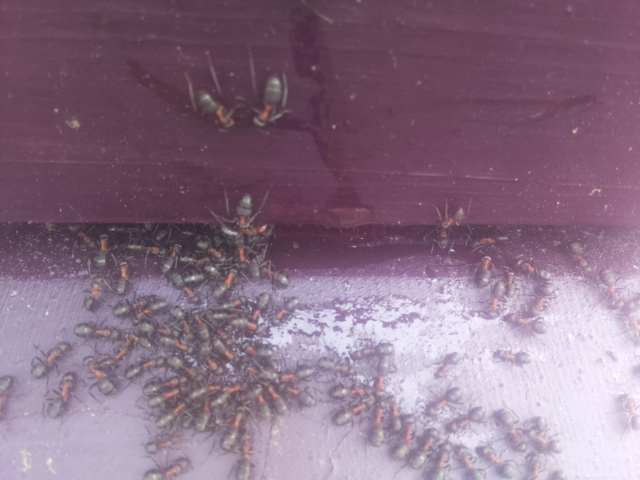ant: (182, 69, 246, 143), (213, 184, 277, 253), (246, 67, 296, 133), (214, 413, 262, 480), (24, 331, 80, 386), (386, 415, 429, 468), (43, 367, 81, 425), (469, 439, 522, 480), (81, 350, 121, 404), (325, 394, 382, 429), (405, 428, 447, 475), (136, 451, 198, 480), (242, 286, 276, 335), (432, 201, 466, 249), (252, 254, 294, 292), (110, 289, 153, 326), (65, 321, 132, 344), (564, 235, 596, 281), (190, 230, 229, 267), (497, 404, 524, 452), (218, 409, 247, 451), (127, 353, 167, 381), (270, 292, 302, 326), (261, 382, 292, 417), (190, 393, 216, 433), (599, 262, 621, 308), (111, 257, 135, 299), (469, 254, 496, 289), (145, 429, 181, 455), (368, 404, 388, 450), (79, 278, 106, 312), (209, 267, 238, 298), (0, 373, 19, 419), (489, 347, 530, 368), (314, 359, 360, 377), (430, 387, 461, 413), (486, 279, 506, 319), (91, 229, 110, 270), (457, 449, 482, 480), (621, 391, 639, 433)
